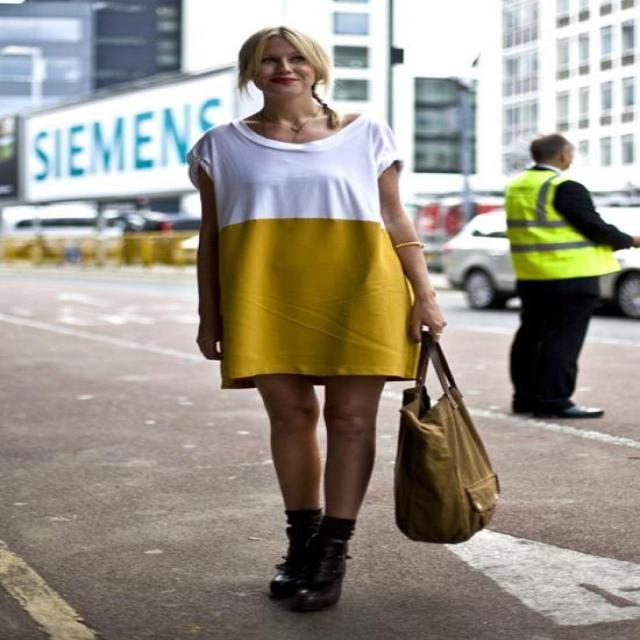dress: (188, 112, 423, 389)
